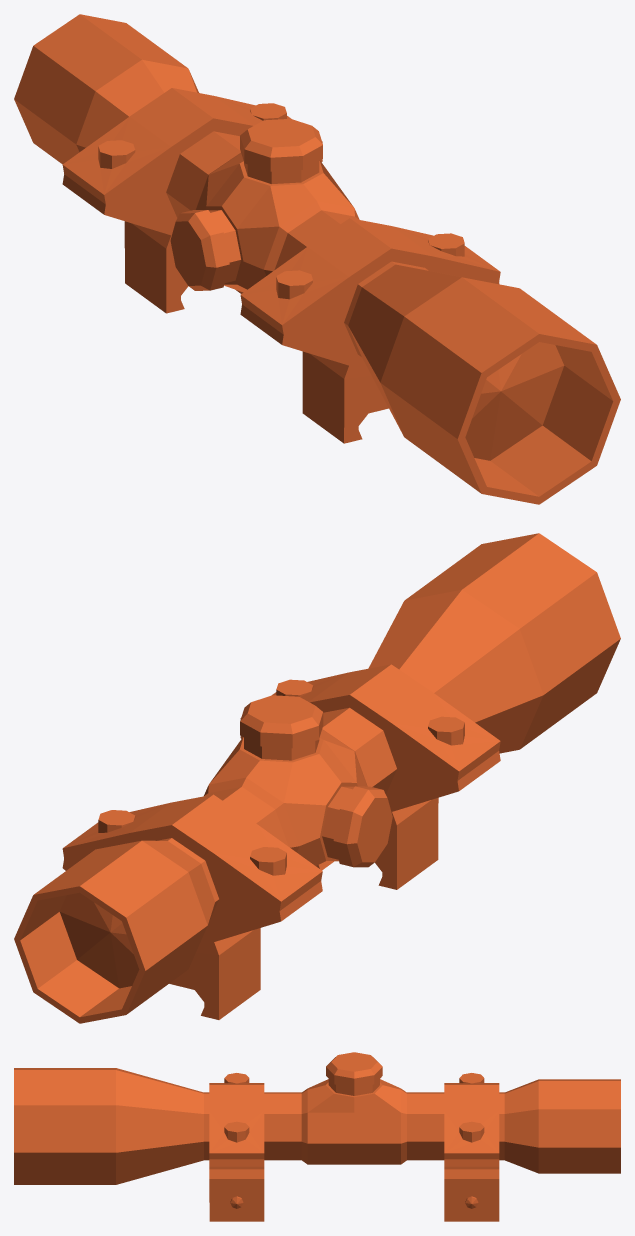
File: acc_scope_4X.fbx
3 views of the same model, one above another, from view 1: azimuth 30°, elevation 25°; view 2: azimuth 150°, elevation 25°; view 3: azimuth 270°, elevation 25° (orthographic). The views are drawn at different scales.
Parts seen in each view (by area): view 1: acc_scope_4X; view 2: acc_scope_4X; view 3: acc_scope_4X.
Part boxes in pixels (x1,y1,x2,y2): acc_scope_4X: (14, 14, 620, 504); acc_scope_4X: (14, 533, 620, 1023); acc_scope_4X: (14, 1052, 620, 1221).
Bounding box in the file's own units: 31.91 × 30.53 × 116.
